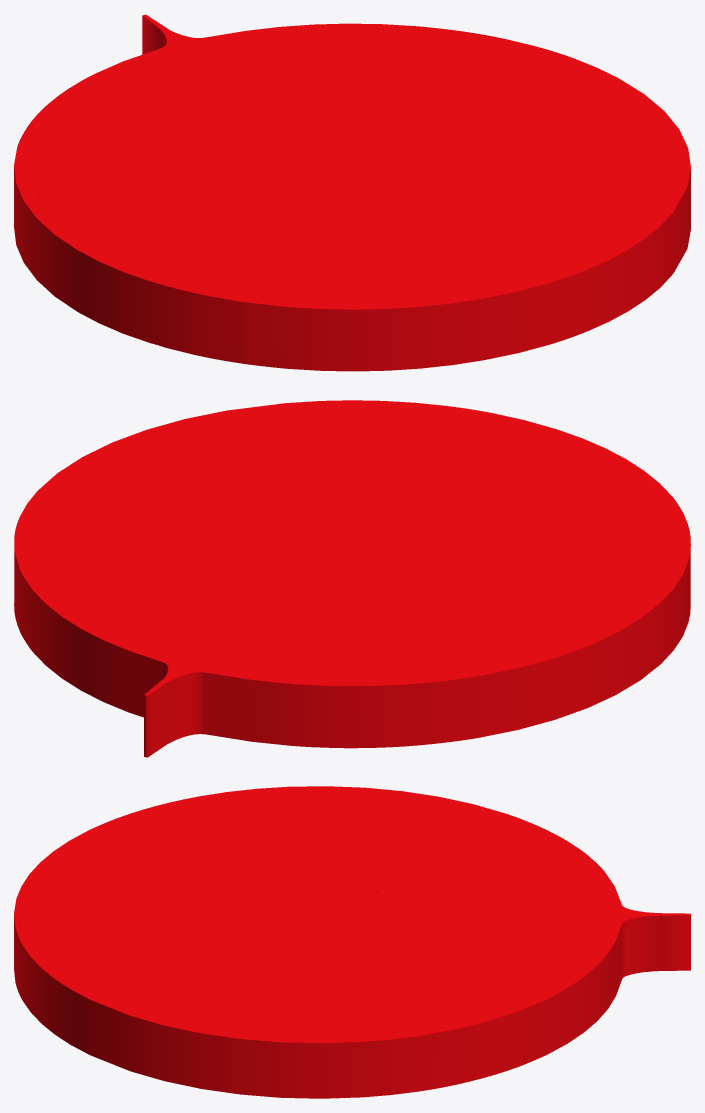
File: HouseWorldMesh.fbx
The picture shows the model from 3 angles, top to bottom: view 1: azimuth 30°, elevation 25°; view 2: azimuth 150°, elevation 25°; view 3: azimuth 270°, elevation 25°; orthographic projection. The views are drawn at different scales.
Parts seen in each view (by area): view 1: Curve; view 2: Curve; view 3: Curve.
Part boxes in pixels (left/top/right/bottom): Curve: left=14, top=14, right=690, bottom=371; Curve: left=14, top=400, right=690, bottom=757; Curve: left=14, top=786, right=690, bottom=1098.
Size of the model in its own units: 1985 by 200 by 2209.
